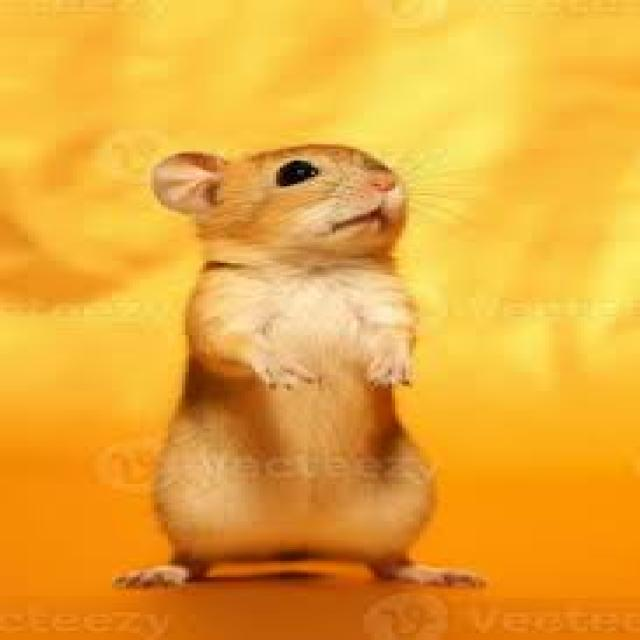rat: (109, 140, 486, 588)
